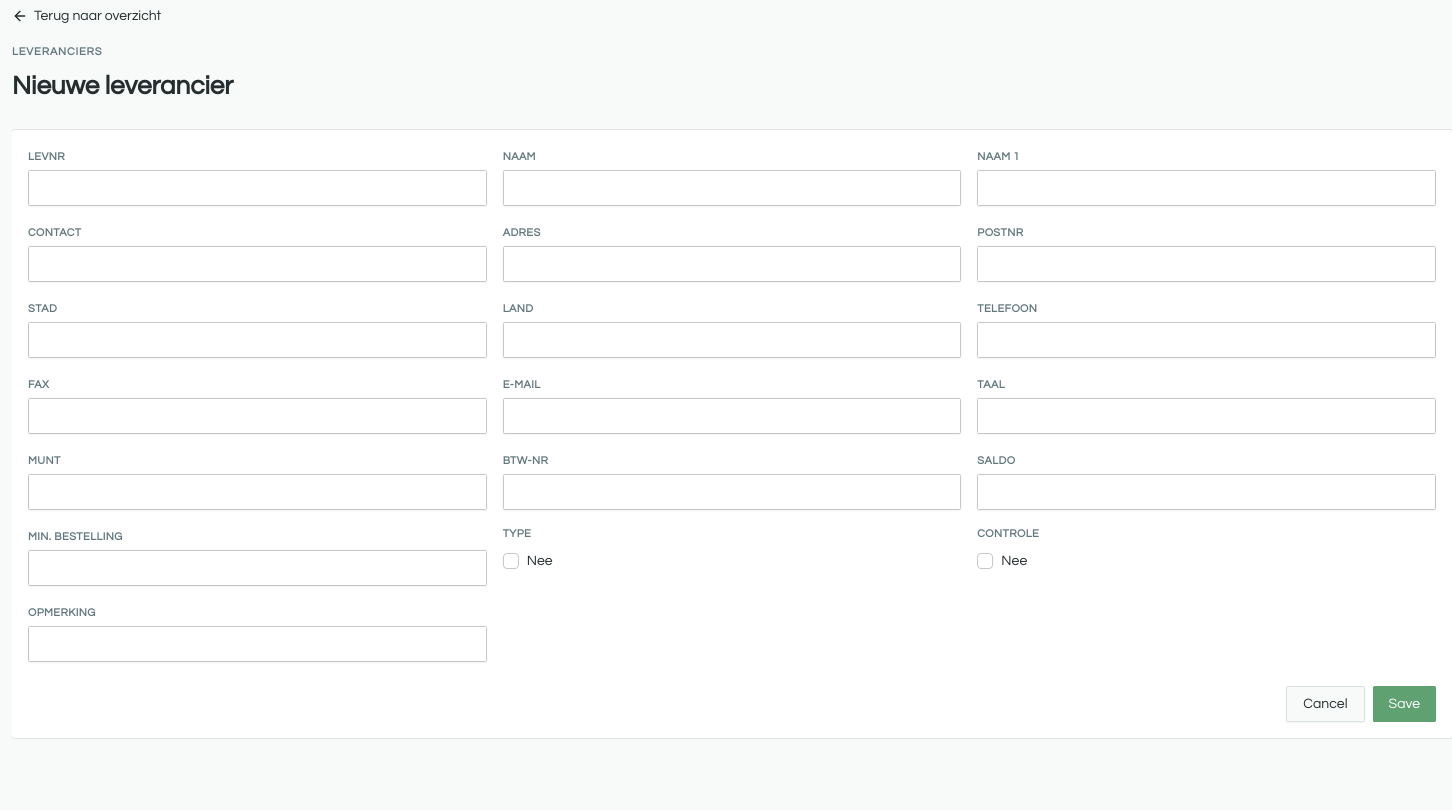
Test case: LeverancierCreatePage › shows the error thrown by the API (e.g. duplicate levnr)
The width and height of the screenshot is (1452, 810).
Type "777" into the number field labelled "Levnr" at [257, 188], box [28,170,487,206]
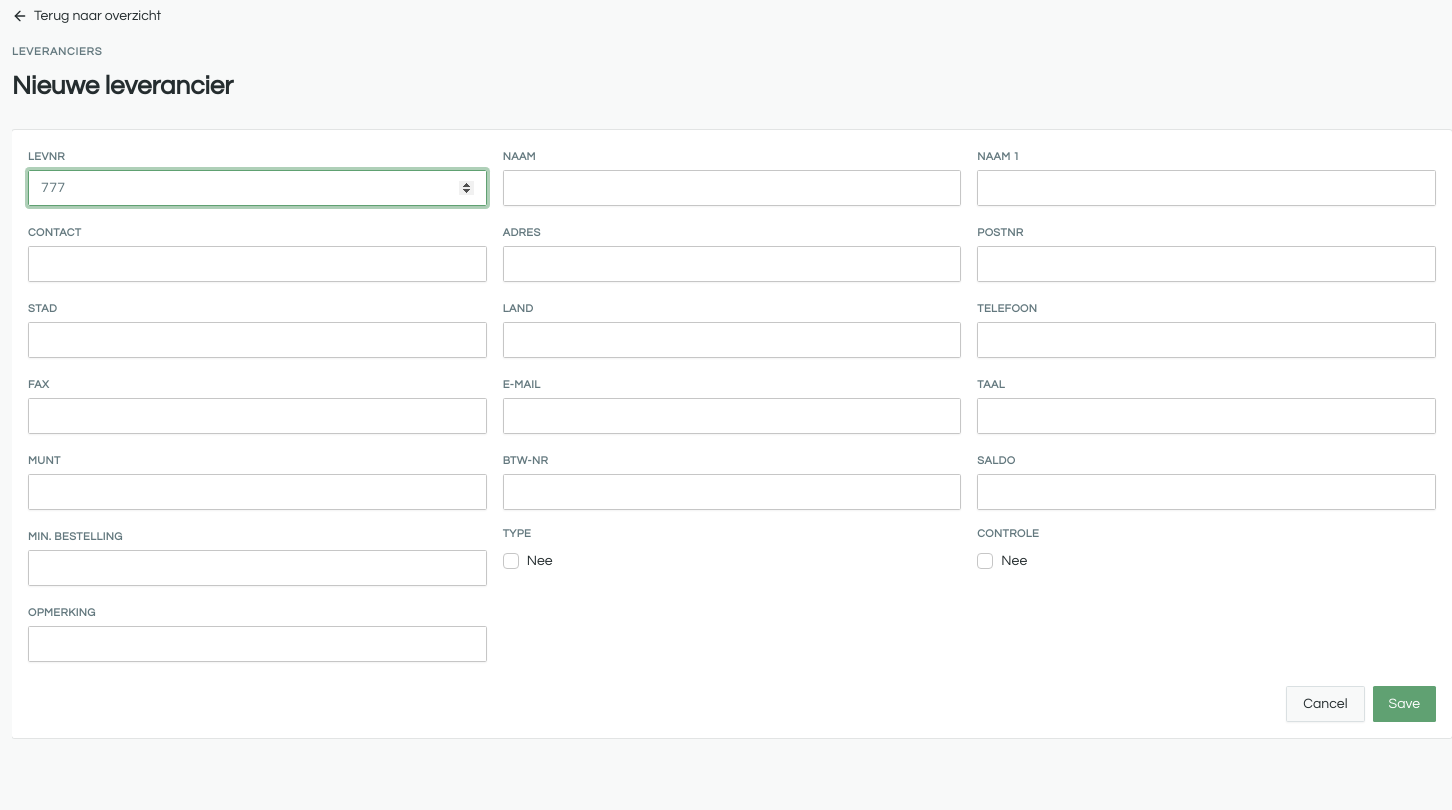
Click the button "Save" at [1404, 704], box [1372,686,1436,722]
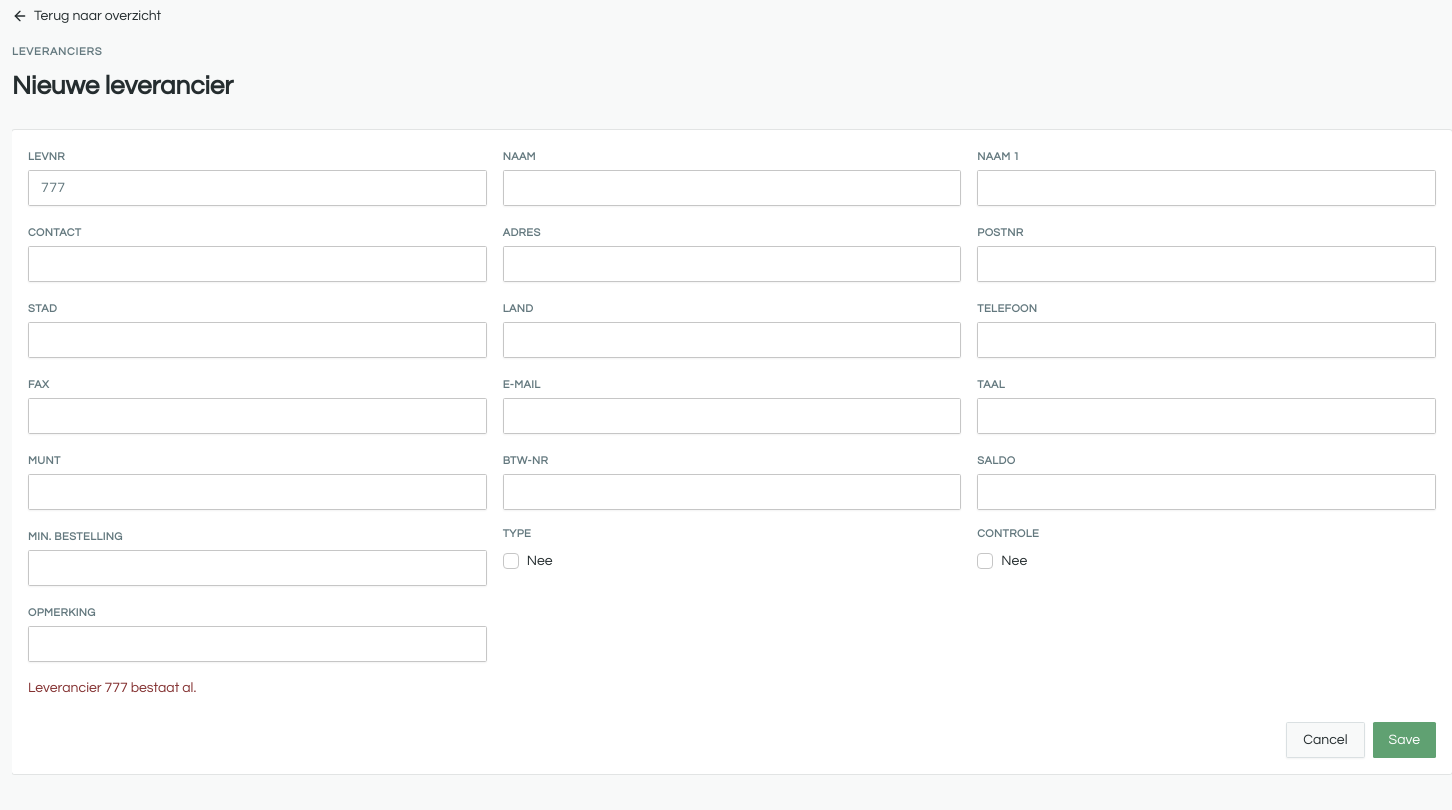
Check: the text "Leverancier 777 bestaat al." is shown, box [28,680,196,694]
